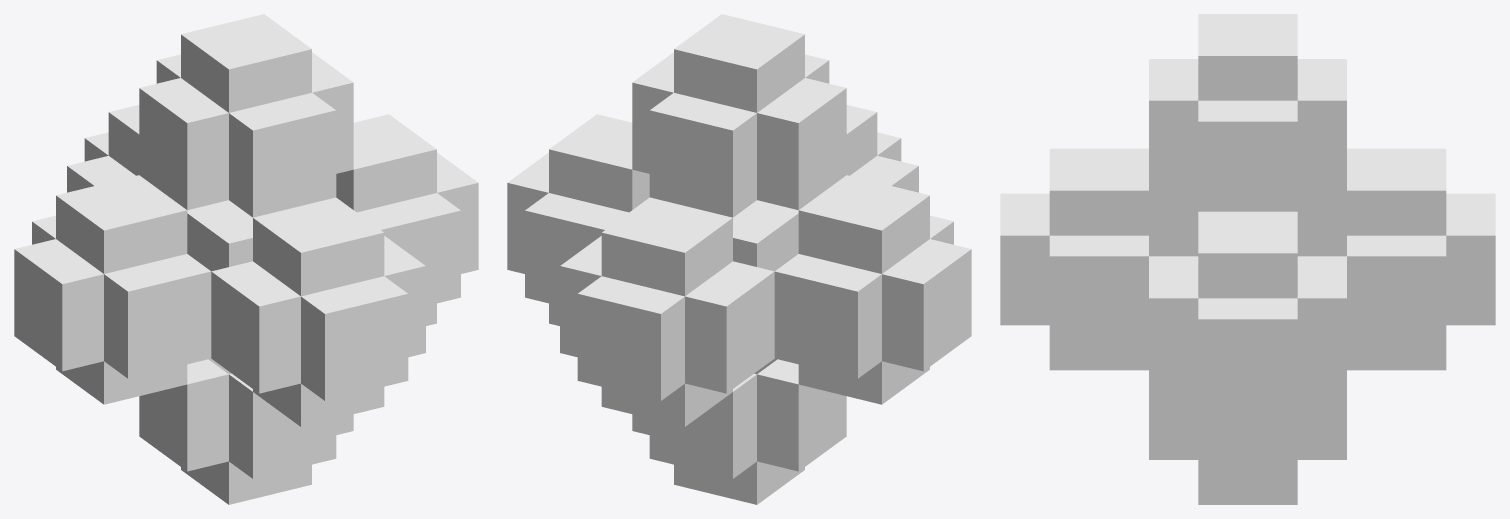
The model's file is lightproj.obj.
The picture shows the model from 3 angles, left to right: view 1: azimuth 30°, elevation 25°; view 2: azimuth 150°, elevation 25°; view 3: azimuth 270°, elevation 25°; orthographic projection. The views are drawn at different scales.
Bounding box in the file's own units: 0.3125 × 0.3125 × 0.3125.
